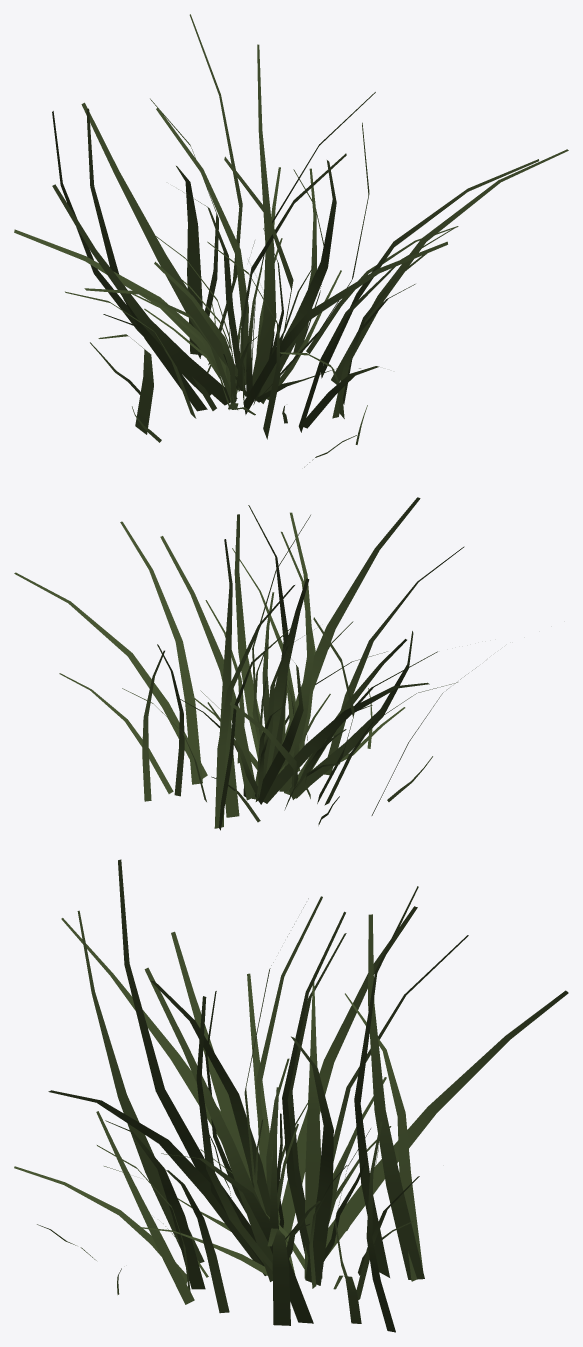
File: grass2.gltf
The picture shows the model from 3 angles, top to bottom: view 1: azimuth 30°, elevation 25°; view 2: azimuth 150°, elevation 25°; view 3: azimuth 270°, elevation 25°; orthographic projection. The views are drawn at different scales.
Parts seen in each view (by area): view 1: Grass_2.250; view 2: Grass_2.250; view 3: Grass_2.250.
Part boxes in pixels (x1,y1,x2,y2): Grass_2.250: (14,14,568,467); Grass_2.250: (14,497,476,830); Grass_2.250: (14,859,568,1332).
Bounding box in the file's own units: 13.89 × 8.28 × 10.47.
